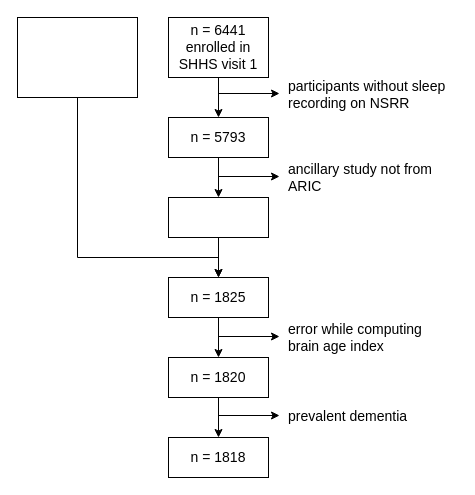
The diagram is 475 pixels wide and 495 high, and some of its shapes have lost their labels. Each missing label, with the box of its shape:
n = 15004 from ARIC Visit 7 with dementia outcome: (16, 16, 138, 98)
n = 1914: (168, 196, 268, 238)
